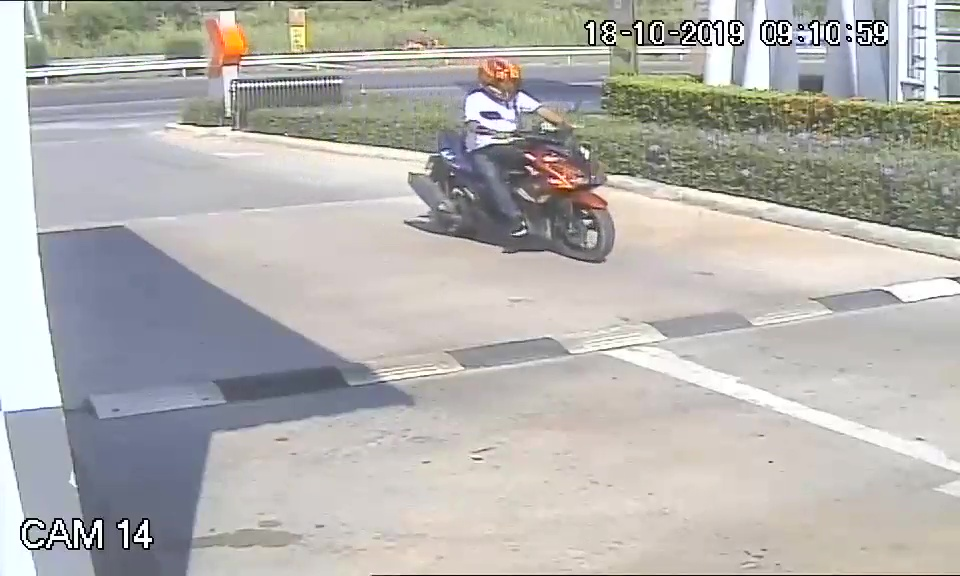motorcycle: (405, 122, 617, 262)
